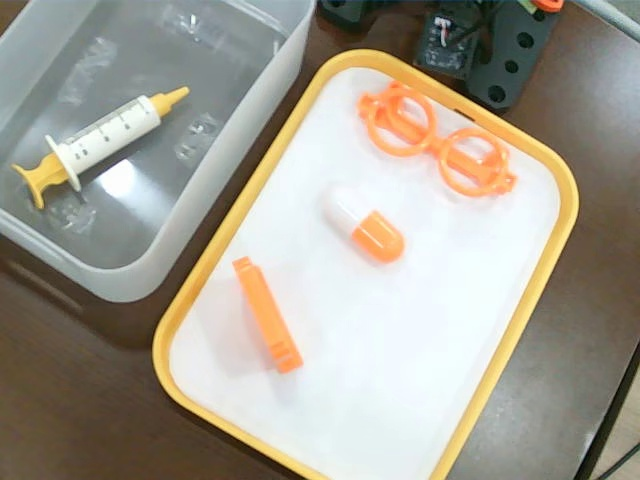pill: (321, 183, 406, 265)
syringe: (11, 87, 191, 212)
